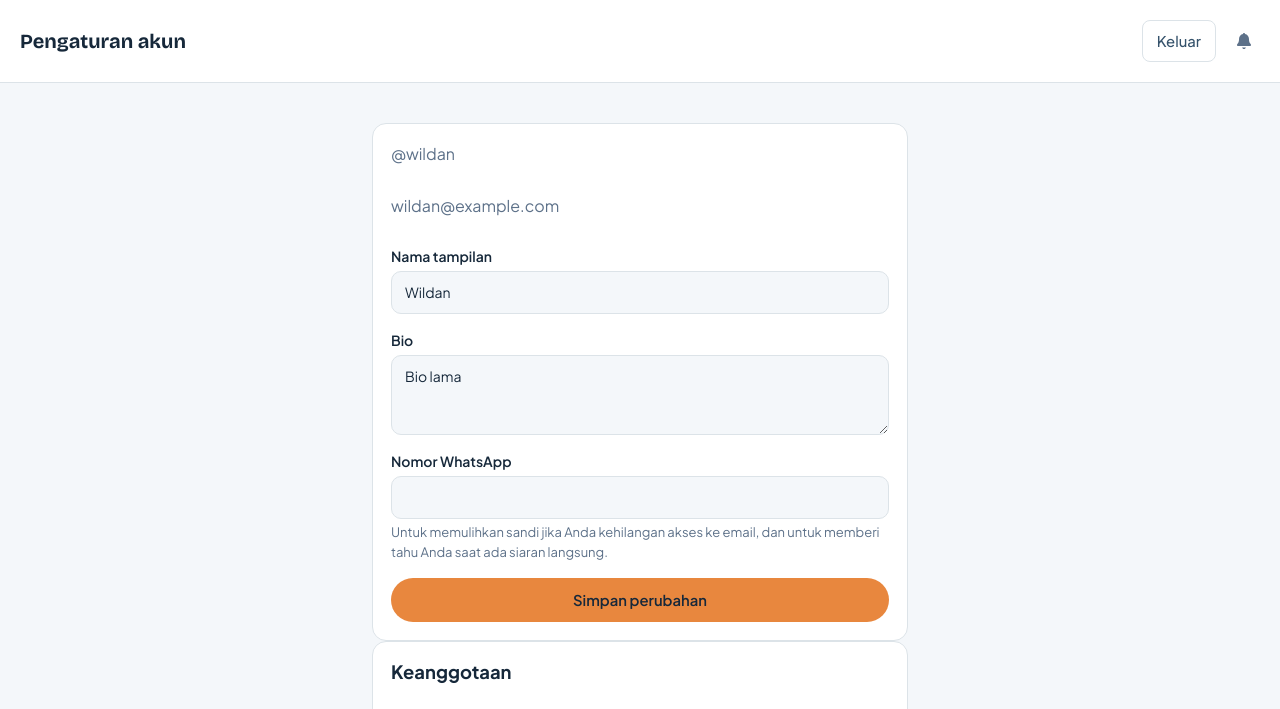
Test: SettingsPage › edits the WhatsApp number and sends it on PATCH — the round-trip this field exists for
Expected: the field showing "Wildan" is shown, [391,271,889,314]
Type "+6281234567890" into the field labelled "Nomor WhatsApp".
click(640, 498); type("+6281234567890")  # box [391,476,889,519]
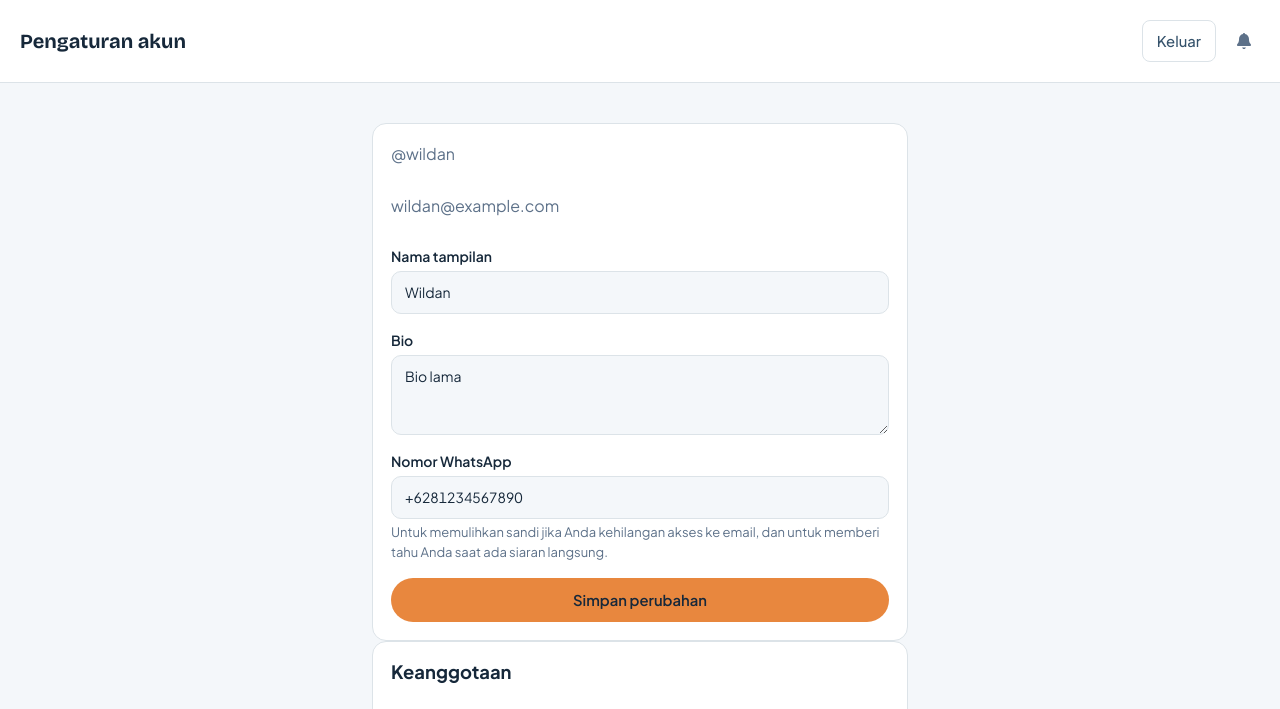
Click the button "Simpan perubahan".
click(640, 600)  # box [391,578,889,622]
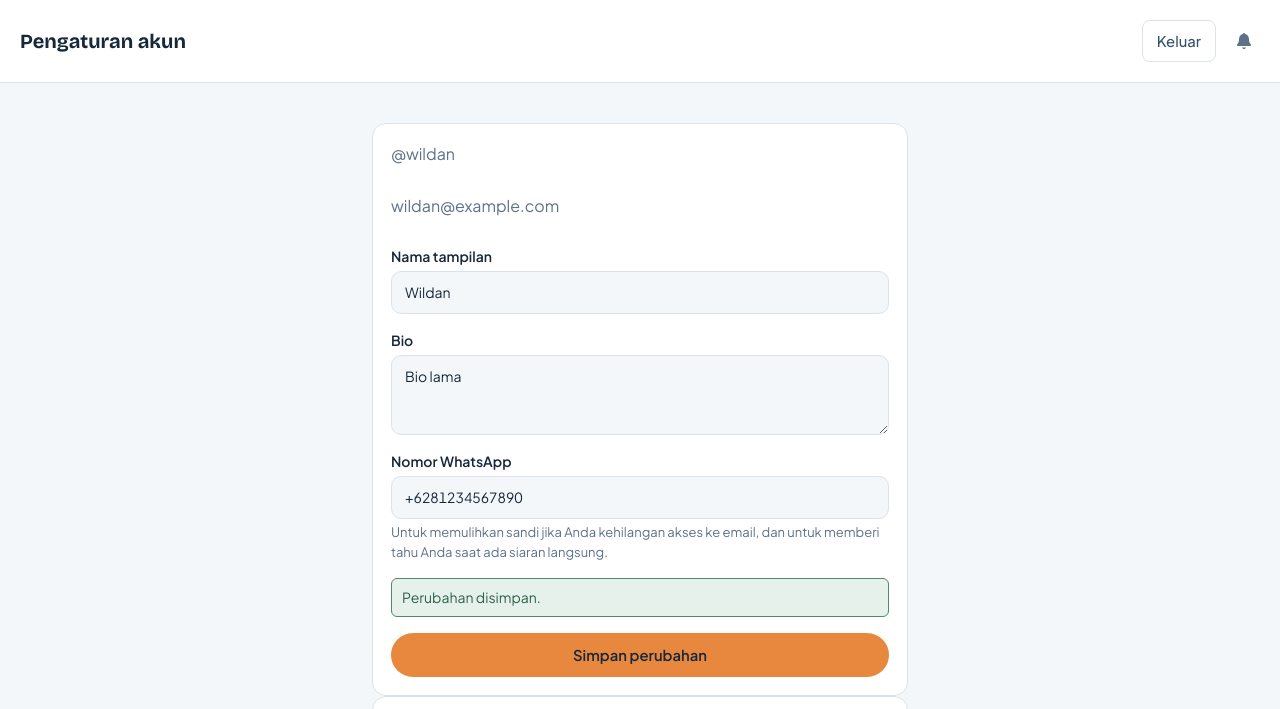
Expected: the text "Perubahan disimpan." is shown, [391,578,889,617]
